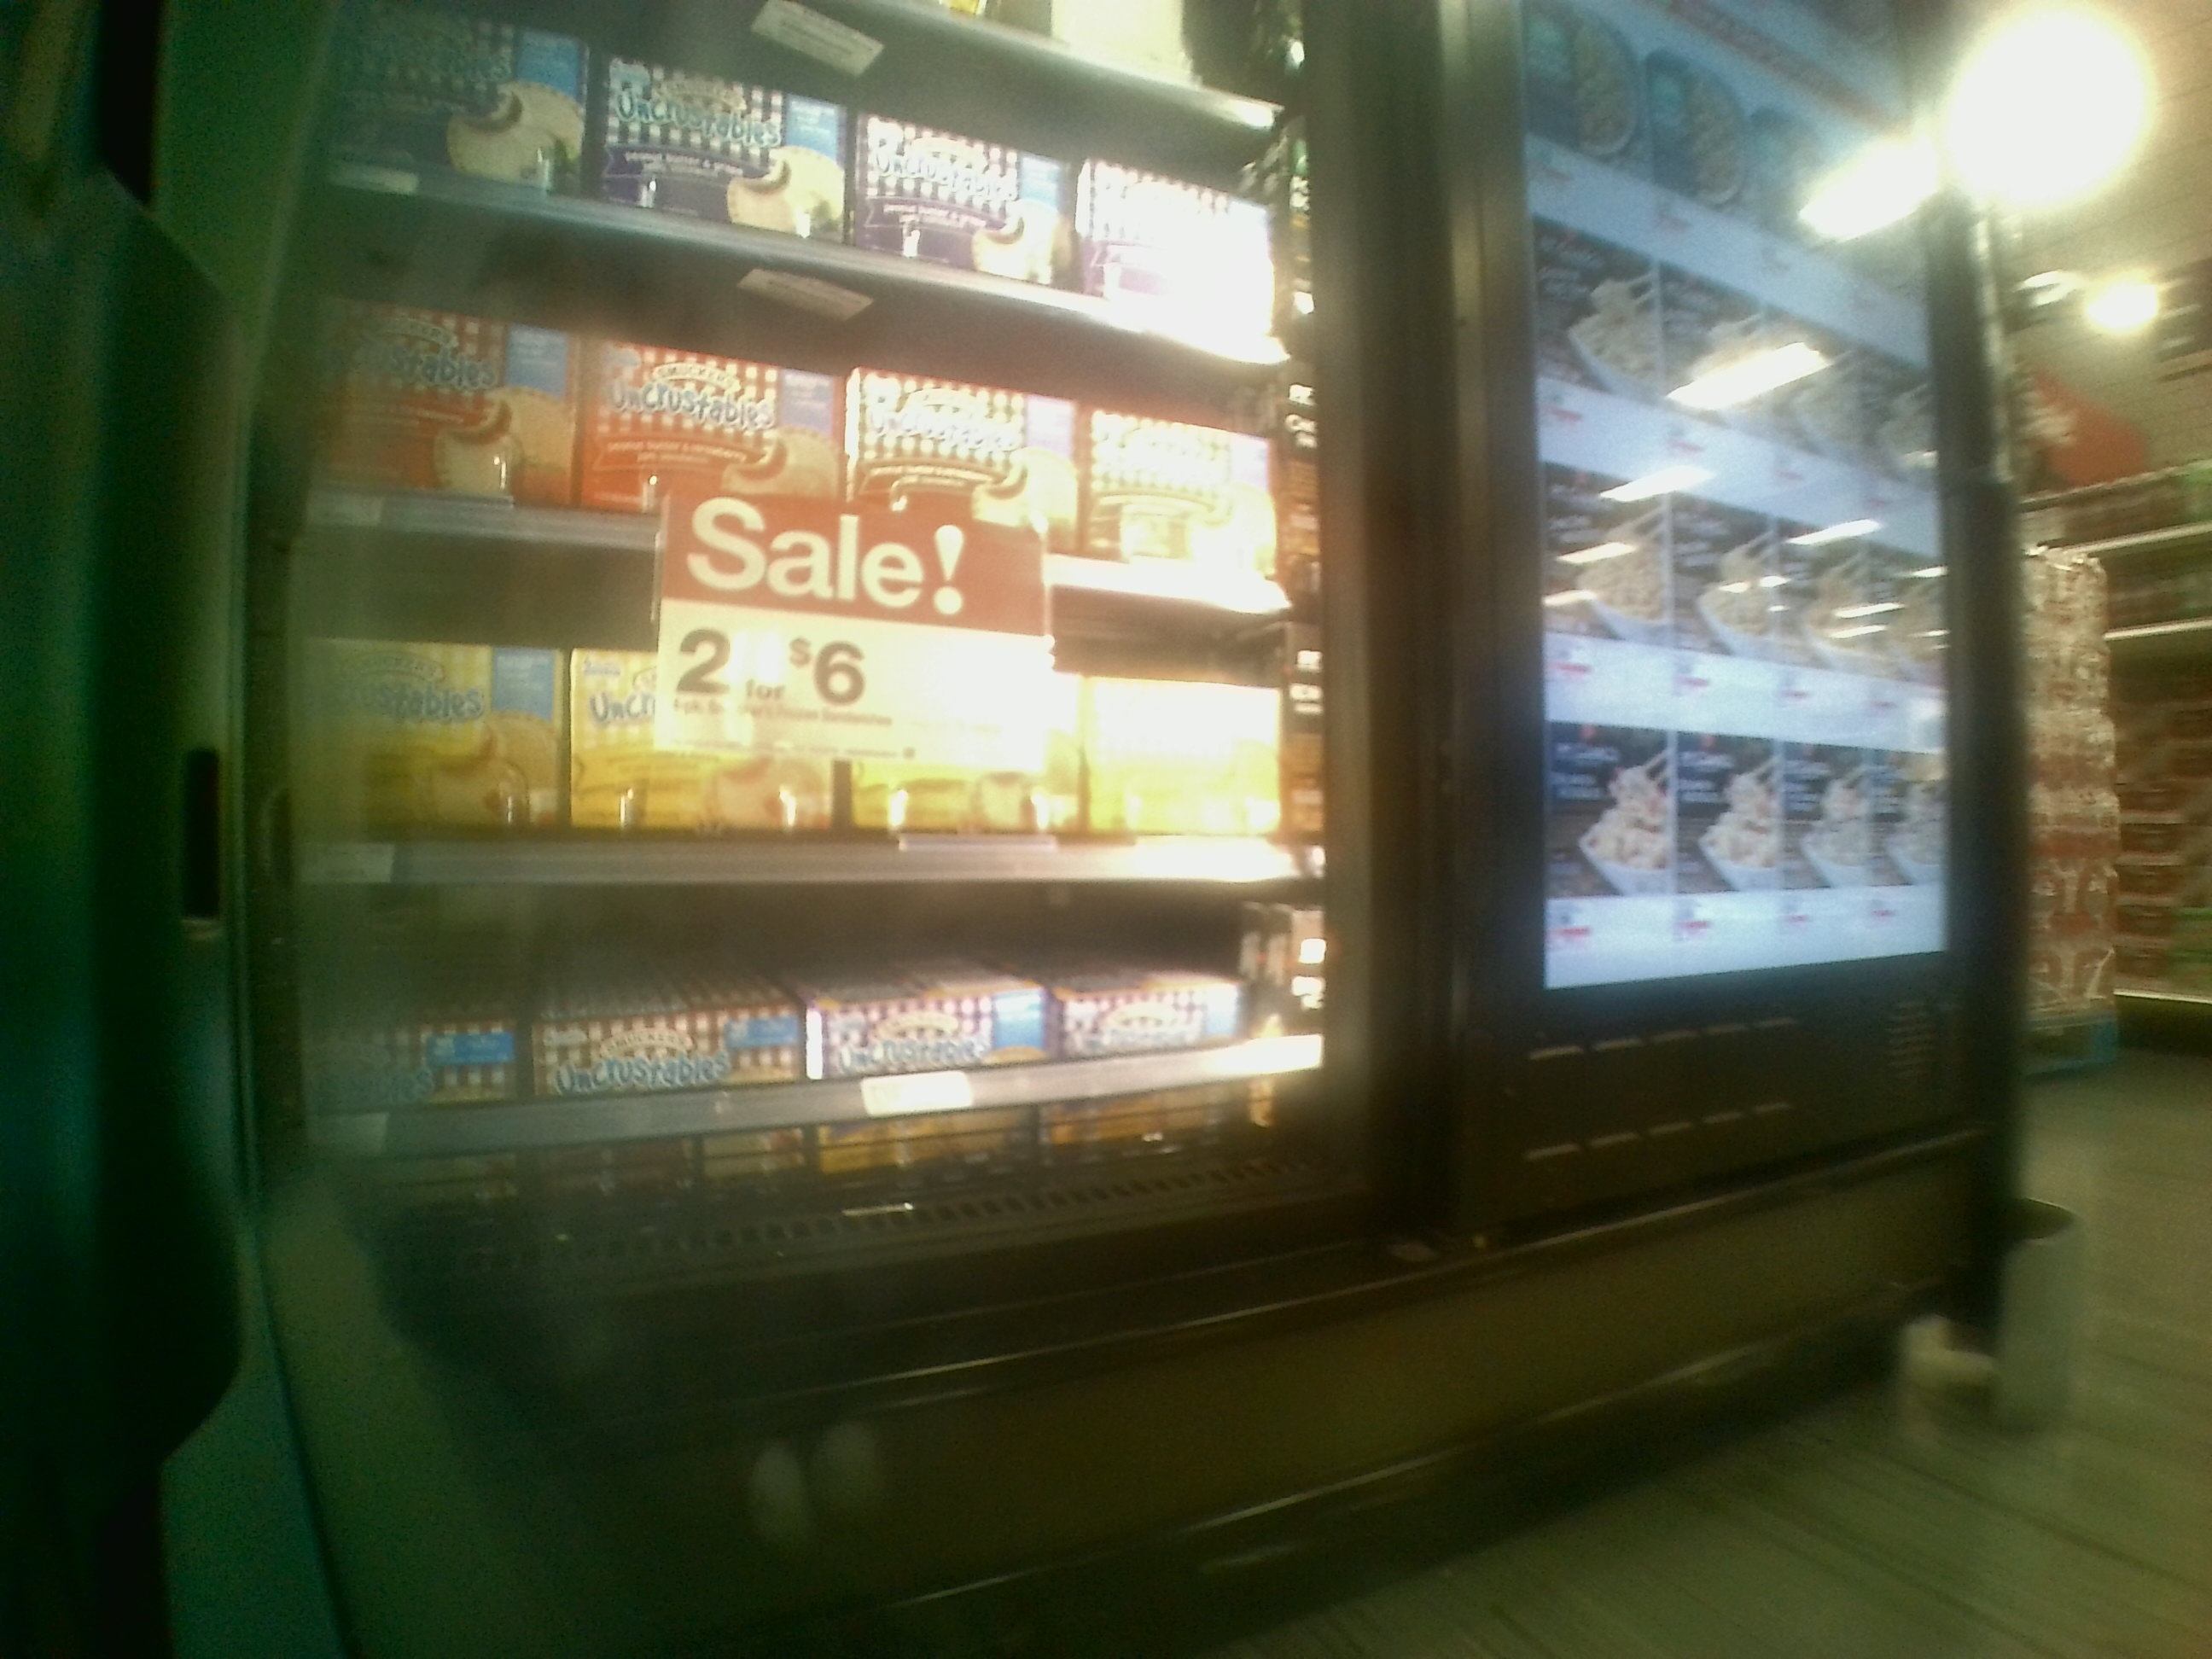shelf: (260, 563, 1320, 890), (260, 878, 1348, 1192), (280, 249, 1320, 563)
